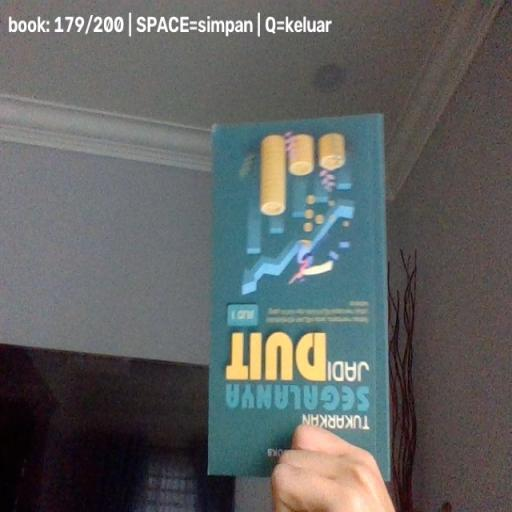Book: (207, 112, 391, 482)
